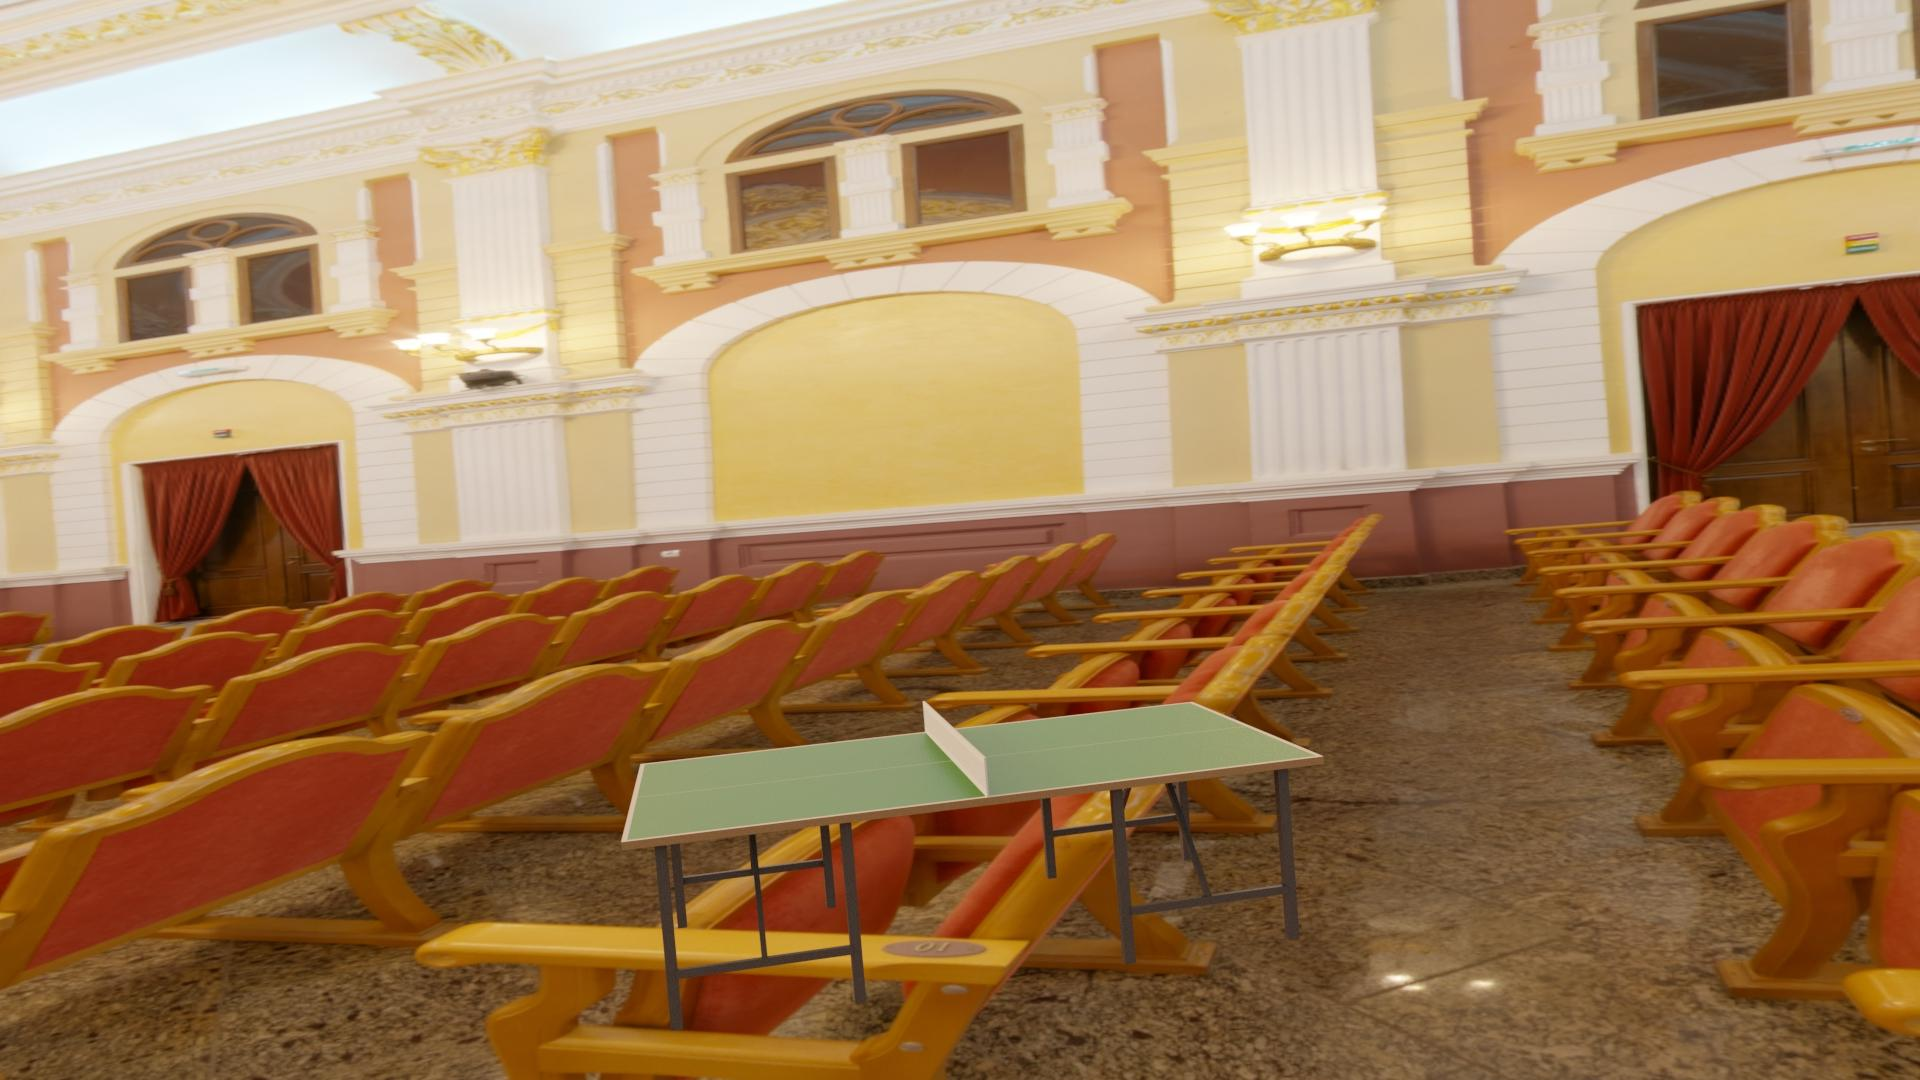table: (628, 703, 1316, 840)
